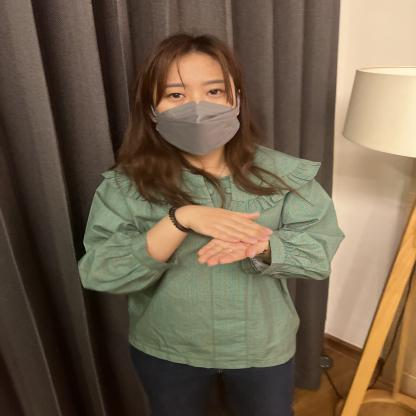Love: (107, 178, 348, 304)
